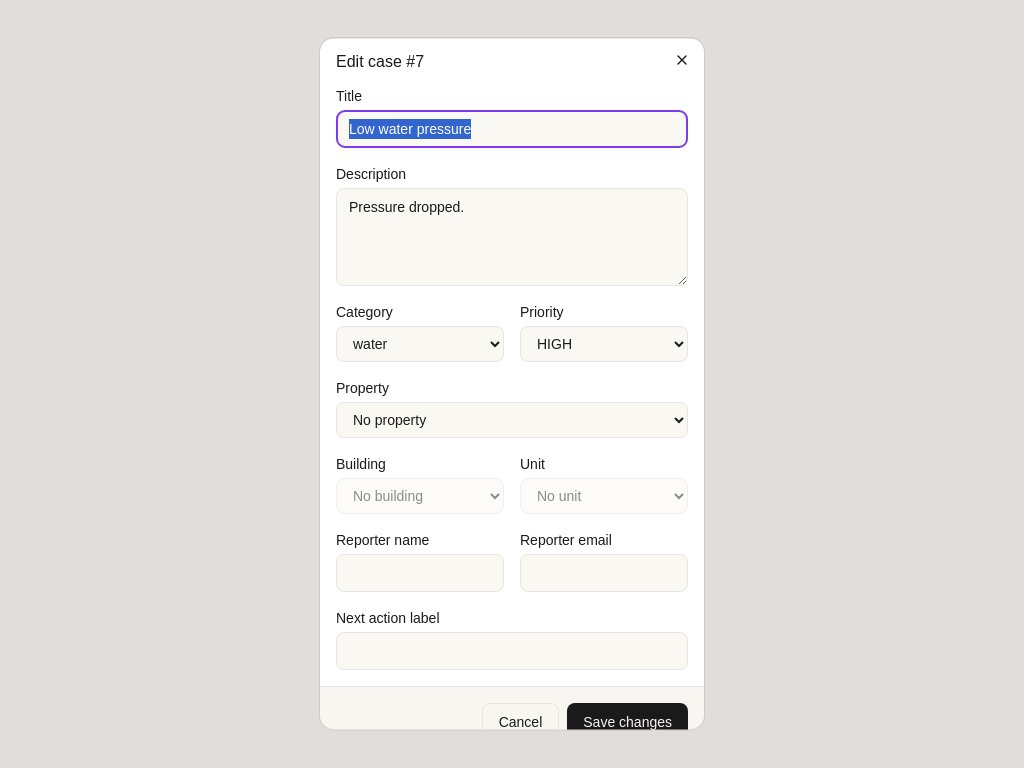
Test: EditCaseDialog › renders field-level errors inline
The width and height of the screenshot is (1024, 768).
Click the button "Save changes" at (628, 722), box [567, 703, 688, 741]
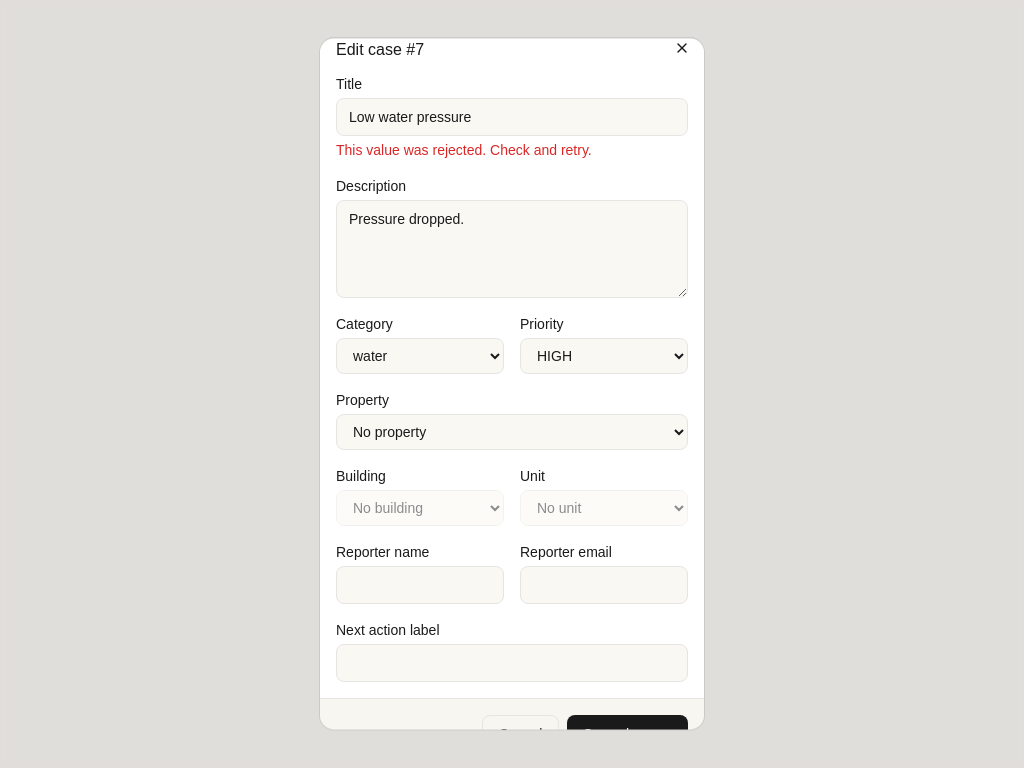
Expected: the text "This value was rejected. Check and retry." is shown, [336, 142, 592, 158]
